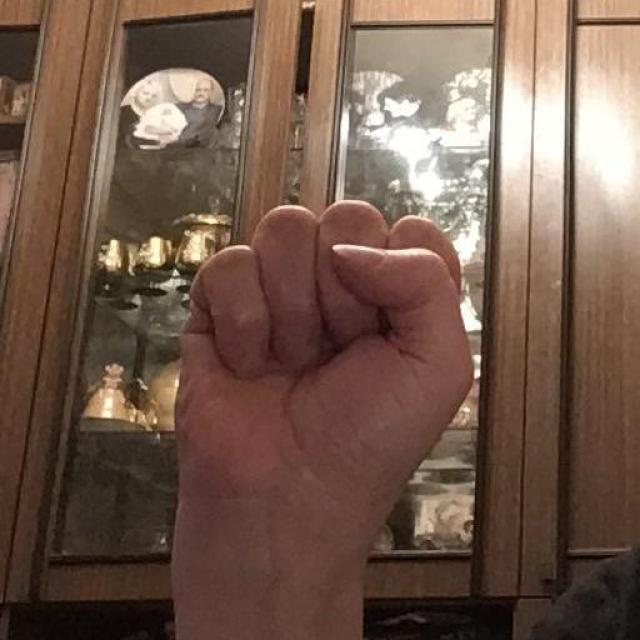hand: (170, 197, 476, 638)
